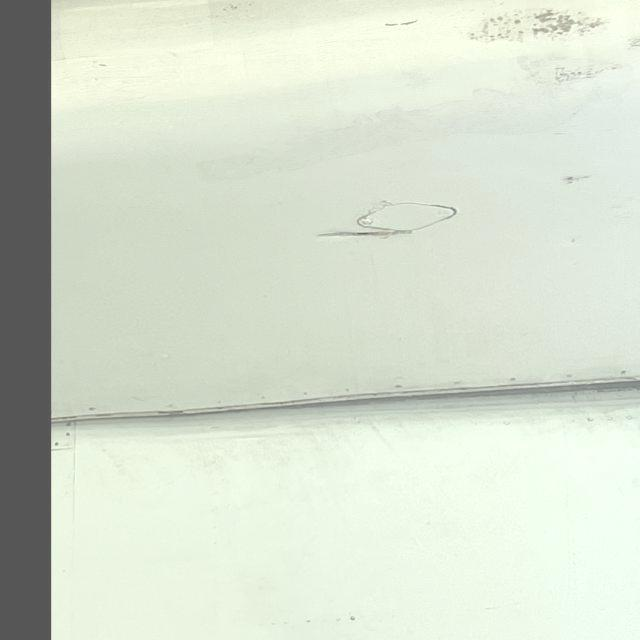crack: (310, 228, 420, 244)
